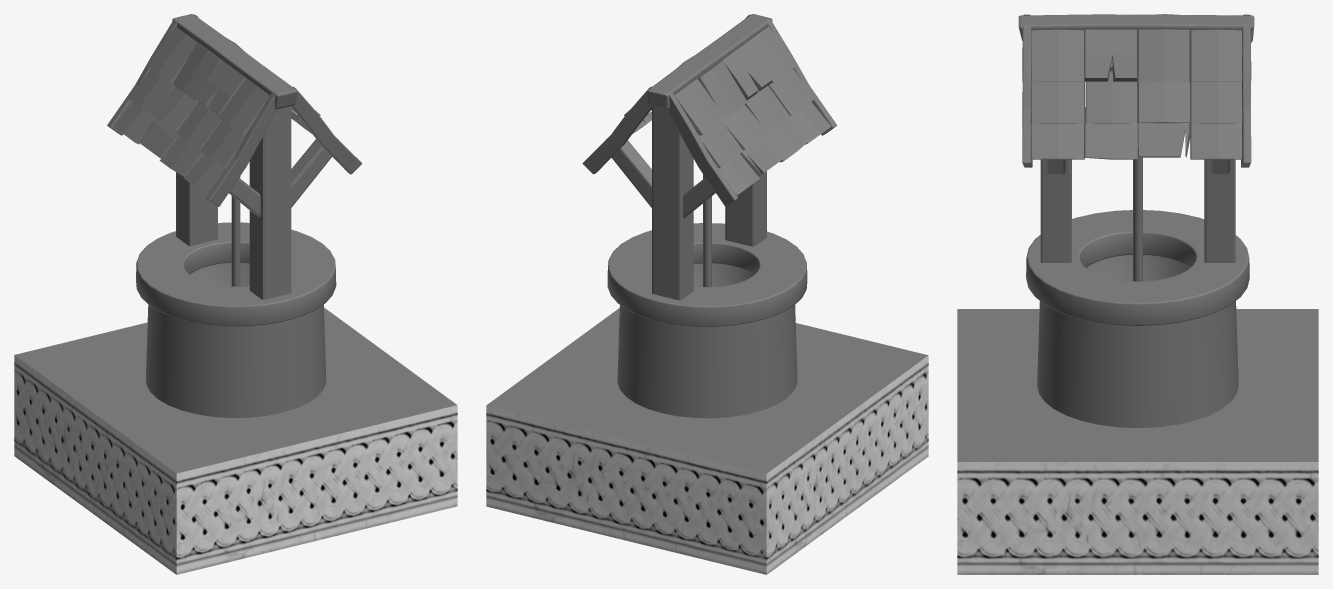
File: med_tile_ew_boundary_well_hd.fbx
3 renders of one model, left to right at view 1: azimuth 30°, elevation 25°; view 2: azimuth 150°, elevation 25°; view 3: azimuth 270°, elevation 25°, orthographic. The views are drawn at different scales.
Visible parts, largest first — view 1: med_tile_ew_boundary_well_hd, med_tile_ew_well; view 2: med_tile_ew_boundary_well_hd, med_tile_ew_well; view 3: med_tile_ew_well, med_tile_ew_boundary_well_hd.
Part boxes in pixels (x1,y1,x2,y2): med_tile_ew_boundary_well_hd: (14,307,457,574); med_tile_ew_well: (107,14,361,417); med_tile_ew_boundary_well_hd: (486,308,928,574); med_tile_ew_well: (582,14,836,418); med_tile_ew_well: (1018,14,1254,427); med_tile_ew_boundary_well_hd: (957,309,1318,574).
Size of the model in its own units: 100 by 146 by 100.
